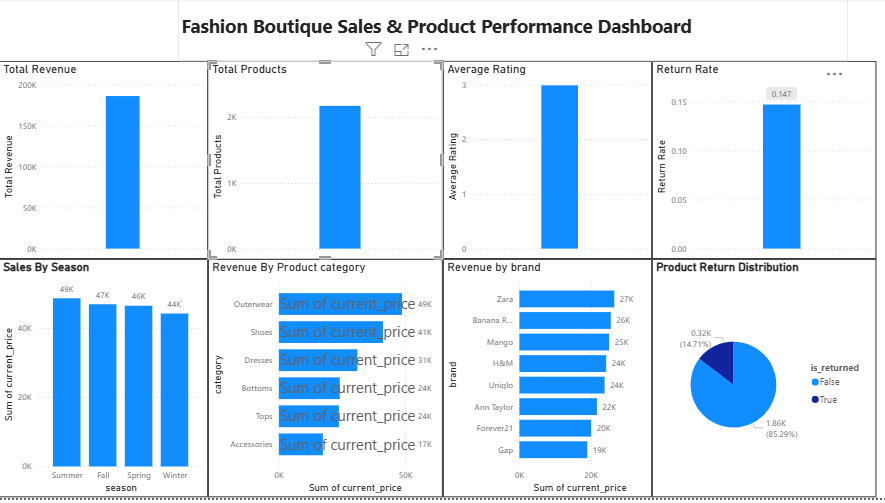

The dashboard page shown, as its layout file describes it:
{"tool":"powerbi","page":{"name":"Page 1","canvas":[1280,720],"ordinal":0},"visuals":[{"type":"clusteredColumnChart","fields":{"Y":["fashion_boutique_dataset.Total Revenue"]},"box":[0,90.7,301,285.1],"z":0},{"type":"clusteredColumnChart","fields":{"Y":["fashion_boutique_dataset.Total Products"]},"box":[301,90.7,338.4,285.1],"z":1000},{"type":"clusteredColumnChart","fields":{"Y":["fashion_boutique_dataset.Average Rating"]},"box":[639.4,90.7,301,285.1],"z":2000},{"type":"clusteredColumnChart","fields":{"Y":["fashion_boutique_dataset.Return Rate"]},"box":[940.3,90.7,322.6,285.1],"z":3000},{"type":"clusteredBarChart","title":"Revenue By Product category","fields":{"Category":["fashion_boutique_dataset.category"],"Y":["Sum(fashion_boutique_dataset.current_price)"]},"box":[301,375.8,338.4,342.7],"z":4000},{"type":"clusteredColumnChart","title":"Sales By Season ","fields":{"Category":["fashion_boutique_dataset.season"],"Y":["Sum(fashion_boutique_dataset.current_price)"]},"box":[0,375.8,301,342.7],"z":5000},{"type":"clusteredBarChart","title":"Revenue by brand","fields":{"Category":["fashion_boutique_dataset.brand"],"Y":["Sum(fashion_boutique_dataset.current_price)"]},"box":[639.4,375.8,301,342.7],"z":6000},{"type":"pieChart","title":"Product Return Distribution","fields":{"Category":["fashion_boutique_dataset.is_returned"],"Y":["CountNonNull(fashion_boutique_dataset.product_id)"]},"box":[940.3,375.8,322.6,342.7],"z":7000},{"type":"textbox","box":[258,0,964.7,90.6],"z":8000}]}

Visuals, with their boxes in screenshot pixels (x1, y1, x2, y2), scaled from the page's 1280x720 canvas onto the 885x503 screenshot:
clusteredColumnChart - fashion_boutique_dataset.Total Revenue: {"x1": 0, "y1": 63, "x2": 208, "y2": 263}
clusteredColumnChart - fashion_boutique_dataset.Total Products: {"x1": 208, "y1": 63, "x2": 442, "y2": 263}
clusteredColumnChart - fashion_boutique_dataset.Average Rating: {"x1": 442, "y1": 63, "x2": 650, "y2": 263}
clusteredColumnChart - fashion_boutique_dataset.Return Rate: {"x1": 650, "y1": 63, "x2": 873, "y2": 263}
"Revenue By Product category" clusteredBarChart: {"x1": 208, "y1": 263, "x2": 442, "y2": 502}
"Sales By Season " clusteredColumnChart: {"x1": 0, "y1": 263, "x2": 208, "y2": 502}
"Revenue by brand" clusteredBarChart: {"x1": 442, "y1": 263, "x2": 650, "y2": 502}
"Product Return Distribution" pieChart: {"x1": 650, "y1": 263, "x2": 873, "y2": 502}
textbox: {"x1": 178, "y1": 0, "x2": 845, "y2": 63}
